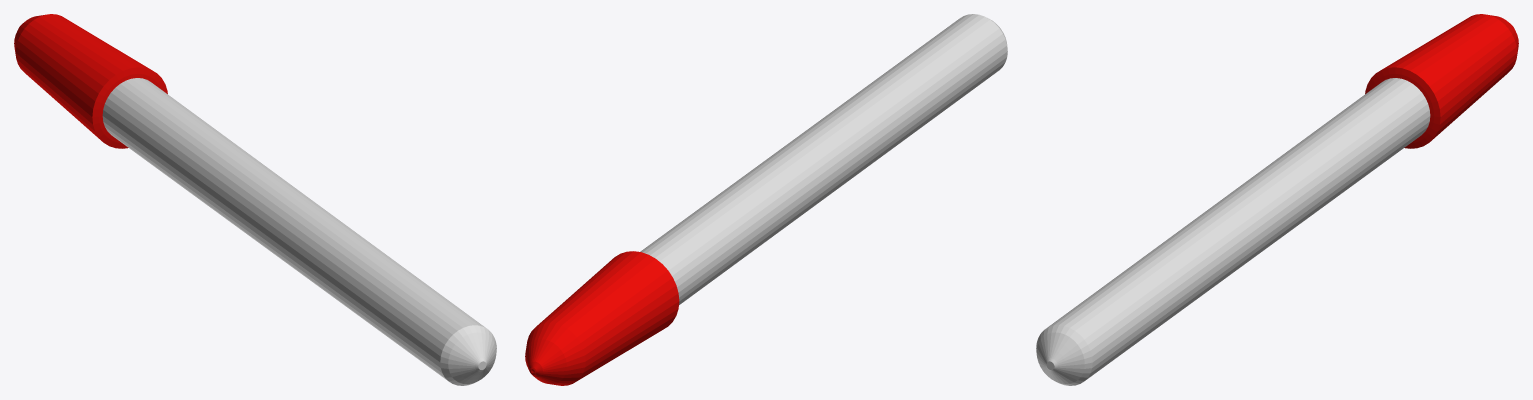
The model's file is pen.fbx.
3 views of the same model, side by side, from view 1: azimuth 30°, elevation 25°; view 2: azimuth 150°, elevation 25°; view 3: azimuth 330°, elevation 25° (orthographic).
Visible parts, largest first — view 1: Pen, Cap; view 2: Pen, Cap; view 3: Pen, Cap.
Part boxes in pixels (left/top/right/bottom): Pen: left=102, top=78, right=496, bottom=385; Cap: left=14, top=14, right=167, bottom=148; Pen: left=640, top=14, right=1007, bottom=304; Cap: left=525, top=251, right=679, bottom=385; Pen: left=1036, top=78, right=1430, bottom=385; Cap: left=1365, top=14, right=1518, bottom=148.
Size of the model in its own units: 11.21 by 11.21 by 118.
